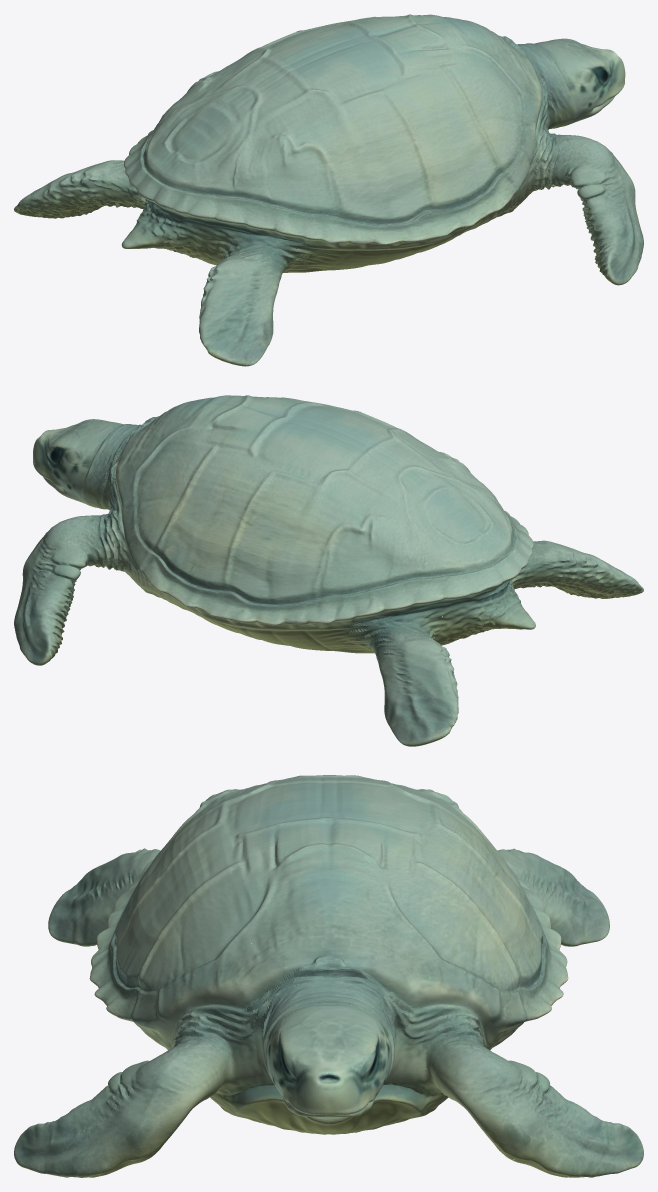
File: sea_turtle_3d_model_6.glb
3 views of the same model, one above another, from view 1: azimuth 30°, elevation 25°; view 2: azimuth 150°, elevation 25°; view 3: azimuth 270°, elevation 25° (orthographic). The views are drawn at different scales.
Visible parts, largest first — view 1: tripo_node_0efcf4c2-3686-4a3b-844b-e9f1cbce6430; view 2: tripo_node_0efcf4c2-3686-4a3b-844b-e9f1cbce6430; view 3: tripo_node_0efcf4c2-3686-4a3b-844b-e9f1cbce6430.
Part boxes in pixels (x1,y1,x2,y2): tripo_node_0efcf4c2-3686-4a3b-844b-e9f1cbce6430: [14, 14, 643, 366]; tripo_node_0efcf4c2-3686-4a3b-844b-e9f1cbce6430: [14, 395, 643, 746]; tripo_node_0efcf4c2-3686-4a3b-844b-e9f1cbce6430: [14, 775, 643, 1177].
Size of the model in its own units: 0.999 by 0.3726 by 0.8043.
1 material, 1 textured.
